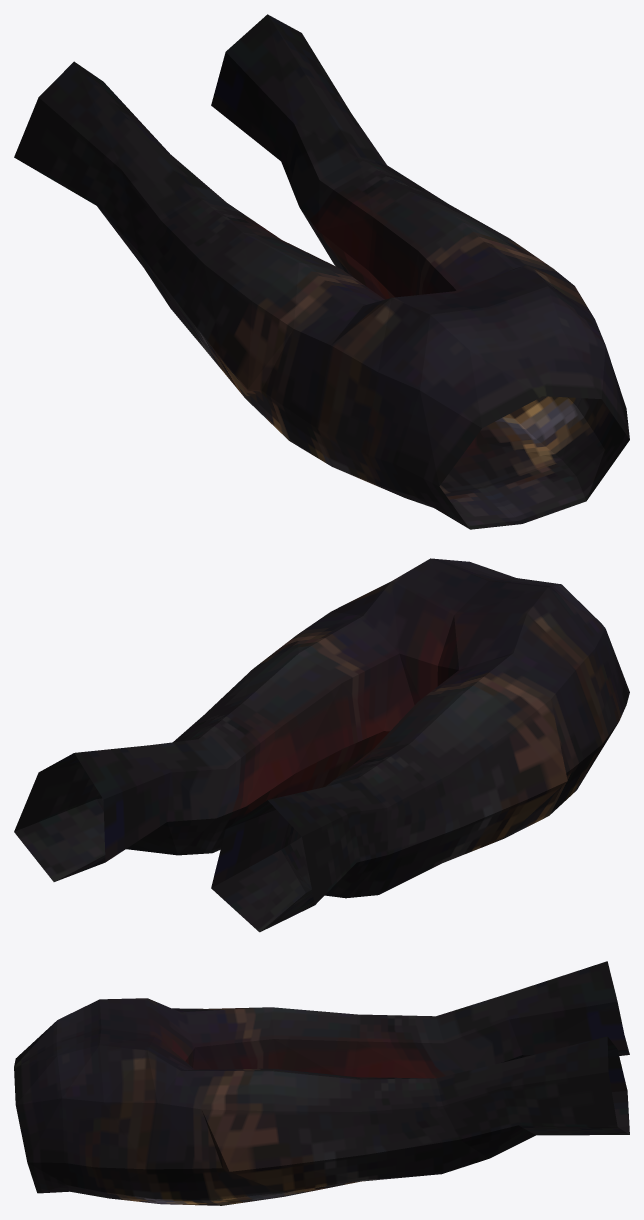
Rendered from soulhunter_trousers_female_380006.obj.
3 renders of one model, top to bottom at view 1: azimuth 30°, elevation 25°; view 2: azimuth 150°, elevation 25°; view 3: azimuth 270°, elevation 25°, orthographic. The views are drawn at different scales.
Visible parts, largest first — view 1: soulhunter_trousers_female_380006; view 2: soulhunter_trousers_female_380006; view 3: soulhunter_trousers_female_380006.
Boxes of the visible parts, x1,y1,x2,y2 form: soulhunter_trousers_female_380006: (14, 14, 629, 529); soulhunter_trousers_female_380006: (14, 558, 629, 932); soulhunter_trousers_female_380006: (14, 961, 629, 1205).
Size of the model in its own units: 16.79 by 11.47 by 35.12.
1 material, 1 textured.
